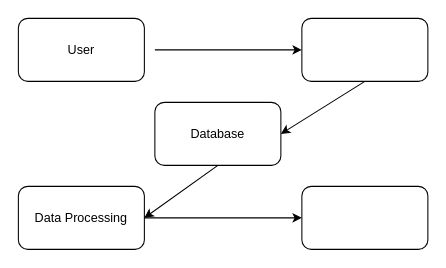
Image size: 446x268. Some labels were removed from this diagram. The shapes that lost their labels are listed below. From the top down, each one's box as (x1, y1, x2, y2) in pixels, then its label:
(301, 17, 428, 81): Dashboard
(301, 185, 428, 249): Visualization
